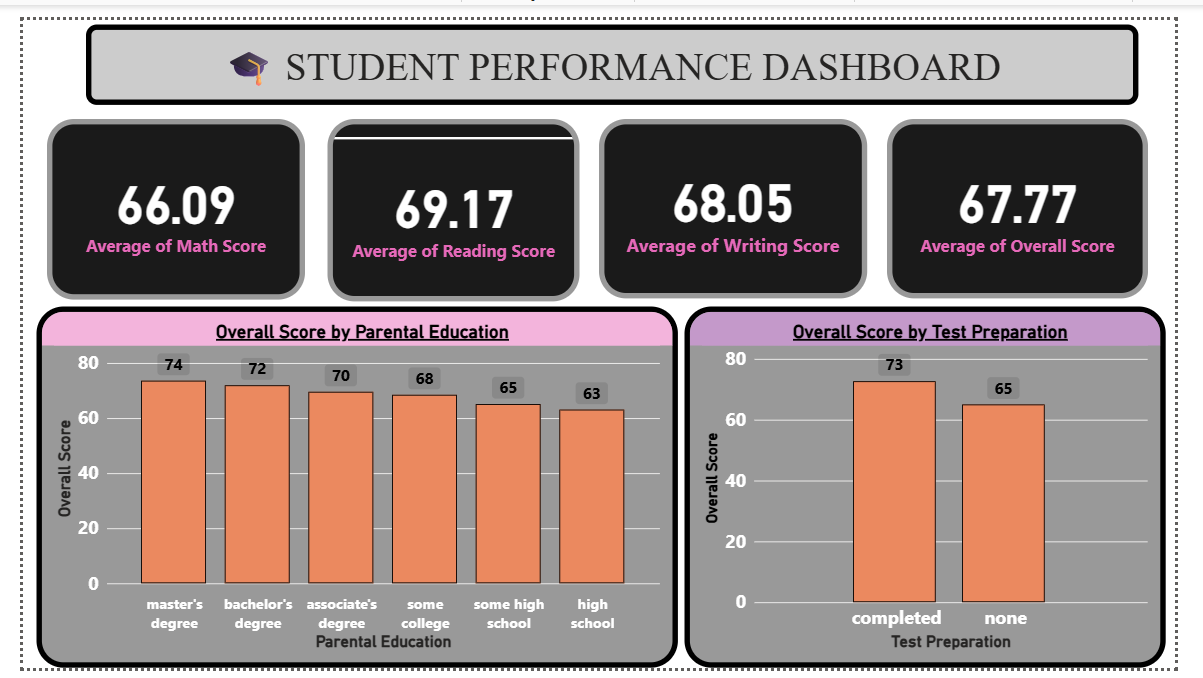

What the dashboard file says about the page in this screenshot:
{"tool":"powerbi","page":{"name":"Page 1","canvas":[1280,720],"ordinal":0},"visuals":[{"type":"card","fields":{"Values":["Avg(Sheet1.Math Score)"]},"box":[25.9,110.1,286.6,200.8],"z":0},{"type":"clusteredColumnChart","title":"Overall Score by Parental Education","fields":{"Category":["Sheet1.Parental Education"],"Y":["Avg(Sheet1.Average Score)"]},"box":[14.6,319,712.5,401.6],"z":1000},{"type":"card","fields":{"Values":["Avg(Sheet1.Reading Score)"]},"box":[338.4,110.1,280.1,202.4],"z":2000},{"type":"card","fields":{"Values":["Avg(Sheet1.Writing Score)"]},"box":[639.6,110.1,297.9,199.2],"z":3000},{"type":"card","fields":{"Values":["Avg(Sheet1.Average Score)"]},"box":[960.2,110.1,289.8,199.2],"z":4000},{"type":"textbox","box":[69.6,4.9,1169.1,89.1],"z":5000},{"type":"clusteredColumnChart","title":"Overall Score by Test Preparation","fields":{"Y":["Avg(Sheet1.Average Score)"],"Category":["Sheet1.Test Preparation"]},"box":[735.1,318.4,534.3,401.6],"z":6000}]}

Visuals, with their boxes in screenshot pixels (x1, y1, x2, y2), scaled from the page's 1280x720 canvas onto the 1203x678 screenshot:
card - Avg(Sheet1.Math Score): bbox(24, 104, 294, 293)
"Overall Score by Parental Education" clusteredColumnChart: bbox(14, 300, 683, 677)
card - Avg(Sheet1.Reading Score): bbox(318, 104, 581, 294)
card - Avg(Sheet1.Writing Score): bbox(601, 104, 881, 291)
card - Avg(Sheet1.Average Score): bbox(902, 104, 1175, 291)
textbox: bbox(65, 5, 1164, 89)
"Overall Score by Test Preparation" clusteredColumnChart: bbox(691, 300, 1193, 677)
